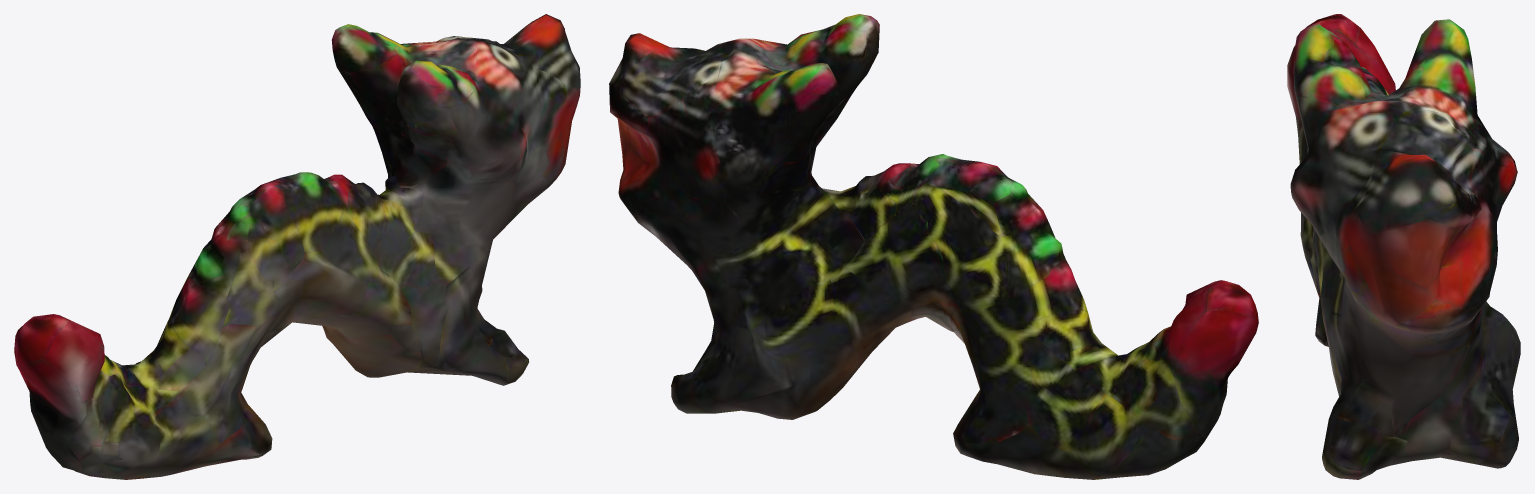
Rendered from hall.glb.
3 renders of one model, left to right at view 1: azimuth 30°, elevation 25°; view 2: azimuth 150°, elevation 25°; view 3: azimuth 270°, elevation 25°, orthographic. The views are drawn at different scales.
Bounding box in the file's own units: 1.02 × 0.6142 × 0.3158.
Materials: 1 (1 with a texture image).
